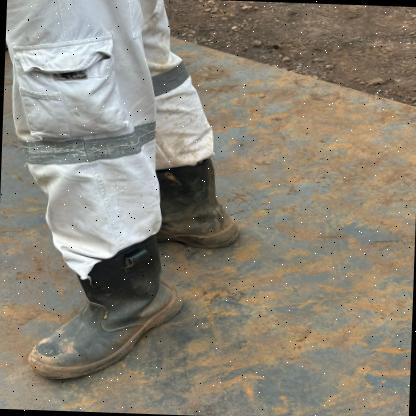bota: (11, 236, 188, 382), (145, 160, 251, 247)
